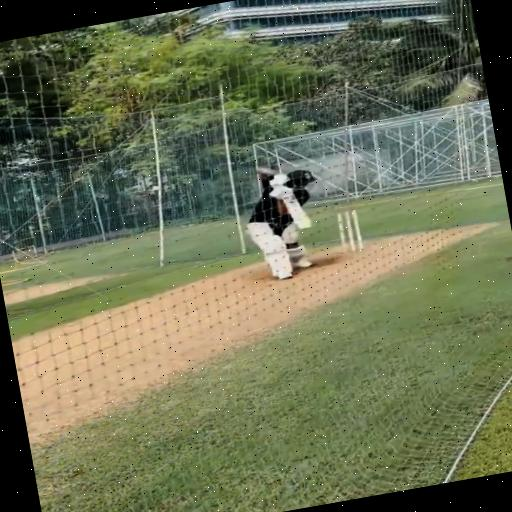Cricket bat: (279, 193, 311, 228)
